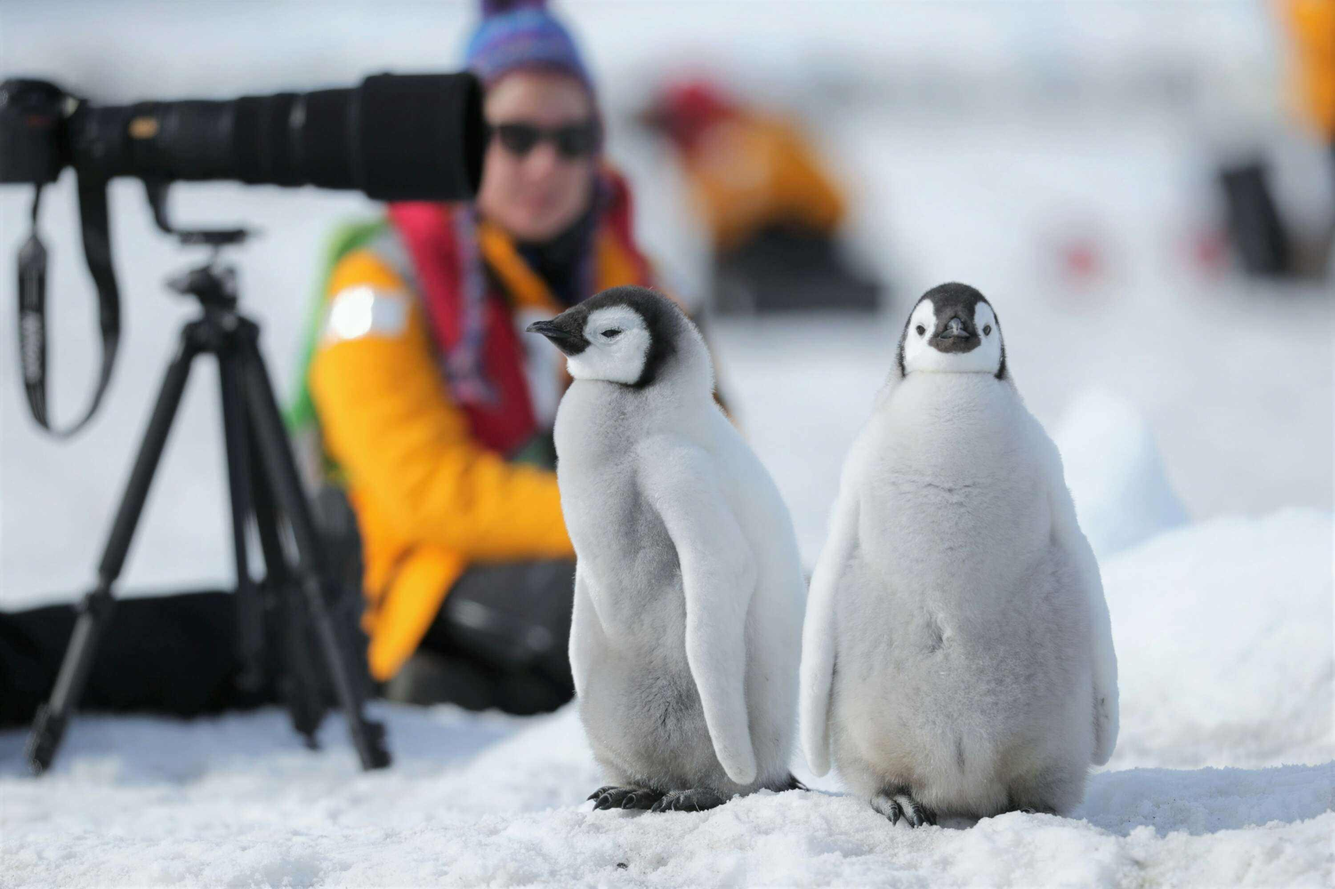Penguin: (800, 281, 1118, 830), (525, 287, 811, 813)
